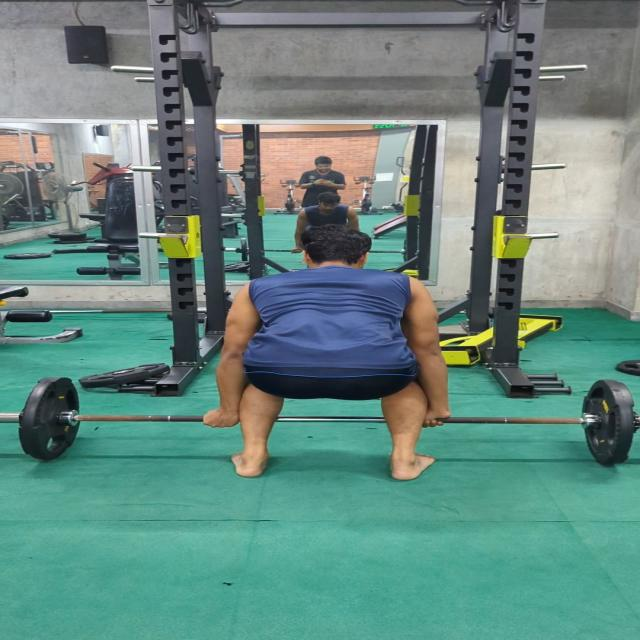Normal_Deadlifts: (198, 225, 454, 482)
